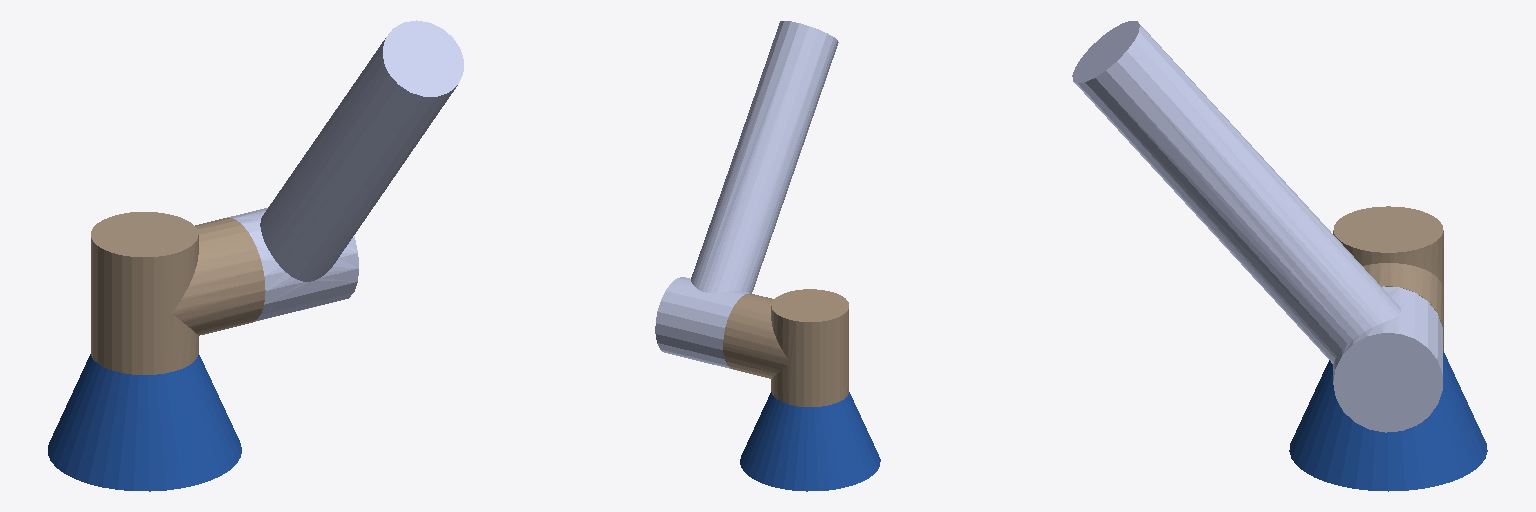
The robot description file, URDF, robot "link12":
<?xml version="1.0" encoding="utf-8"?>
<!-- This URDF was automatically created by SolidWorks to URDF Exporter! Originally created by [author] ([email redacted]) 
     Commit Version: 1.5.1-0-g916b5db  Build Version: 1.5.7152.31018
     For more information, please see http://wiki.ros.org/sw_urdf_exporter -->
<robot
  name="link12">
  <link
   name="world"/>
  <joint
    name="joint_to_world"
    type="fixed">
    <origin
      xyz="0 0 0"
      rpy="1.57 0 1.57" />
    <parent
      link="world" />
    <child
      link="base_link" />
   </joint>
  <link
    name="base_link">
    <inertial>
      <origin
        xyz="0 -0.0046936 -2.7756E-17"
        rpy="0 0 0" />
      <mass
        value="1.5532" />
      <inertia
        ixx="0.0033156"
        ixy="-1.0549E-35"
        ixz="-2.4285E-35"
        iyy="0.0042734"
        iyz="1.6217E-19"
        izz="0.0033156" />
    </inertial>
    <visual>
      <origin
        xyz="0 0 0"
        rpy="0 0 0" />
      <geometry>
        <mesh
          filename="package://link12/meshes/base_link.STL" />
      </geometry>
      <material
        name="">
        <color
          rgba="0.2 0.4 0.69804 1" />
      </material>
    </visual>
    <collision>
      <origin
        xyz="0 0 0"
        rpy="1.57 0 0" />
      <geometry>
        <mesh
          filename="package://link12/meshes/base_link.STL" />
      </geometry>
    </collision>
  </link>
  <link
    name="link1">
    <inertial>
      <origin
        xyz="1.0114E-09 0.06 0.02288"
        rpy="0 0 0" />
      <mass
        value="1.3945" />
      <inertia
        ixx="0.0036544"
        ixy="3.6522E-10"
        ixz="-1.0337E-10"
        iyy="0.0031681"
        iyz="-2.6562E-19"
        izz="0.0023129" />
    </inertial>
    <visual>
      <origin
        xyz="0 0 0"
        rpy="0 0 0" />
      <geometry>
        <mesh
          filename="package://link12/meshes/link1.STL" />
      </geometry>
      <material
        name="">
        <color
          rgba="0.6902 0.61176 0.52941 1" />
      </material>
    </visual>
    <collision>
      <origin
        xyz="0 0 0"
        rpy="0 0 0" />
      <geometry>
        <mesh
          filename="package://link12/meshes/link1.STL" />
      </geometry>
    </collision>
  </link>
  <joint
    name="joint1"
    type="continuous">
    <origin
      xyz="0 0.054982 0"
      rpy="0 0 0" />
    <parent
      link="base_link" />
    <child
      link="link1" />
    <axis
      xyz="0 1 0" />
  </joint>
  <link
    name="link2">
    <inertial>
      <origin
        xyz="-0.098904 0.11883 0.05"
        rpy="0 0 0" />
      <mass
        value="2.5669" />
      <inertia
        ixx="0.029157"
        ixy="0.022123"
        ixz="-3.9073E-09"
        iyy="0.020991"
        iyz="5.1539E-09"
        izz="0.04742" />
    </inertial>
    <visual>
      <origin
        xyz="0 0 0"
        rpy="0 0 0" />
      <geometry>
        <mesh
          filename="package://link12/meshes/link2.STL" />
      </geometry>
      <material
        name="">
        <color
          rgba="0.79216 0.81961 0.93333 1" />
      </material>
    </visual>
    <collision>
      <origin
        xyz="0 0 0"
        rpy="0 0 0" />
      <geometry>
        <mesh
          filename="package://link12/meshes/link2.STL" />
      </geometry>
    </collision>
  </link>
  <joint
    name="joint2"
    type="continuous">
    <origin
      xyz="0 0.06 0.1"
      rpy="0 0 0" />
    <parent
      link="link1" />
    <child
      link="link2" />
    <axis
      xyz="0 0 1" />
  </joint>
</robot>

--- Render facts (derived) ---
Views: 3 orthographic renders of the robot side by side, from view 1: azimuth 30°, elevation 25°; view 2: azimuth 150°, elevation 25°; view 3: azimuth 270°, elevation 25°.
Robot: link12 — 4 links, 3 joints (2 continuous, 1 fixed); root link world; default pose: every joint at zero.
Visible links, largest first — view 1: link2, link1, base_link; view 2: link2, link1, base_link; view 3: link2, base_link, link1.
Boxes of the visible links, <box> form: link2: <box>227,20,463,321</box>; link1: <box>91,212,265,374</box>; base_link: <box>48,354,241,491</box>; link2: <box>655,21,838,368</box>; link1: <box>723,289,848,406</box>; base_link: <box>740,392,880,491</box>; link2: <box>1072,21,1442,432</box>; base_link: <box>1289,351,1487,491</box>; link1: <box>1333,206,1443,350</box>.
Size in the robot's own frame: 0.2896 by 0.3766 by 0.4931 metres.
3 mesh visuals loaded from 3 distinct referenced files (3 binary STL).